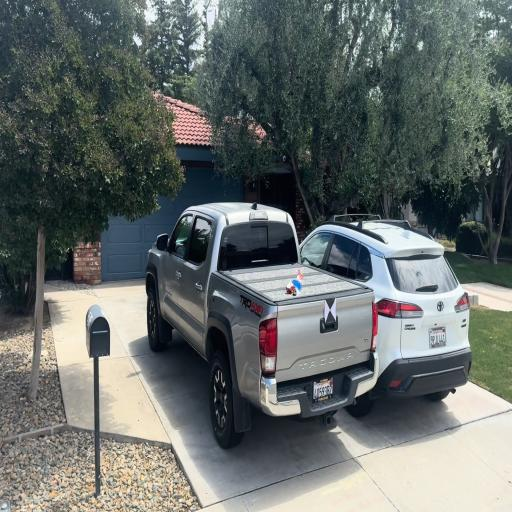target: (325, 299, 336, 322)
